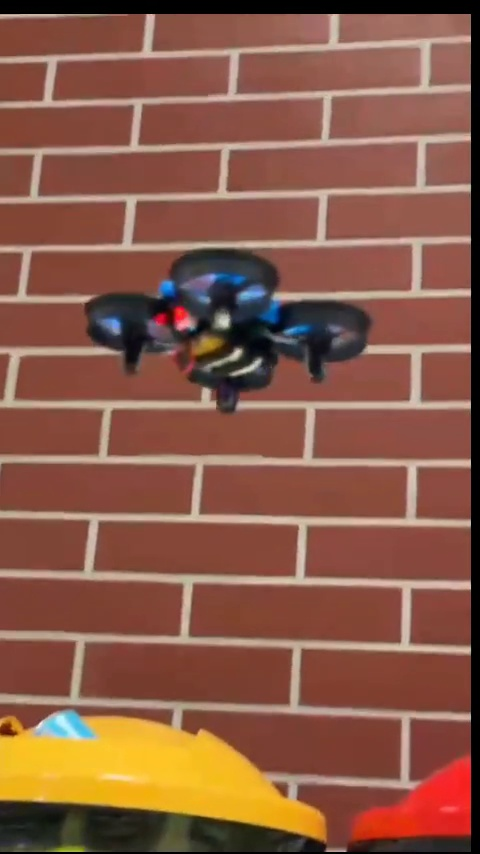drone: (90, 247, 366, 416)
